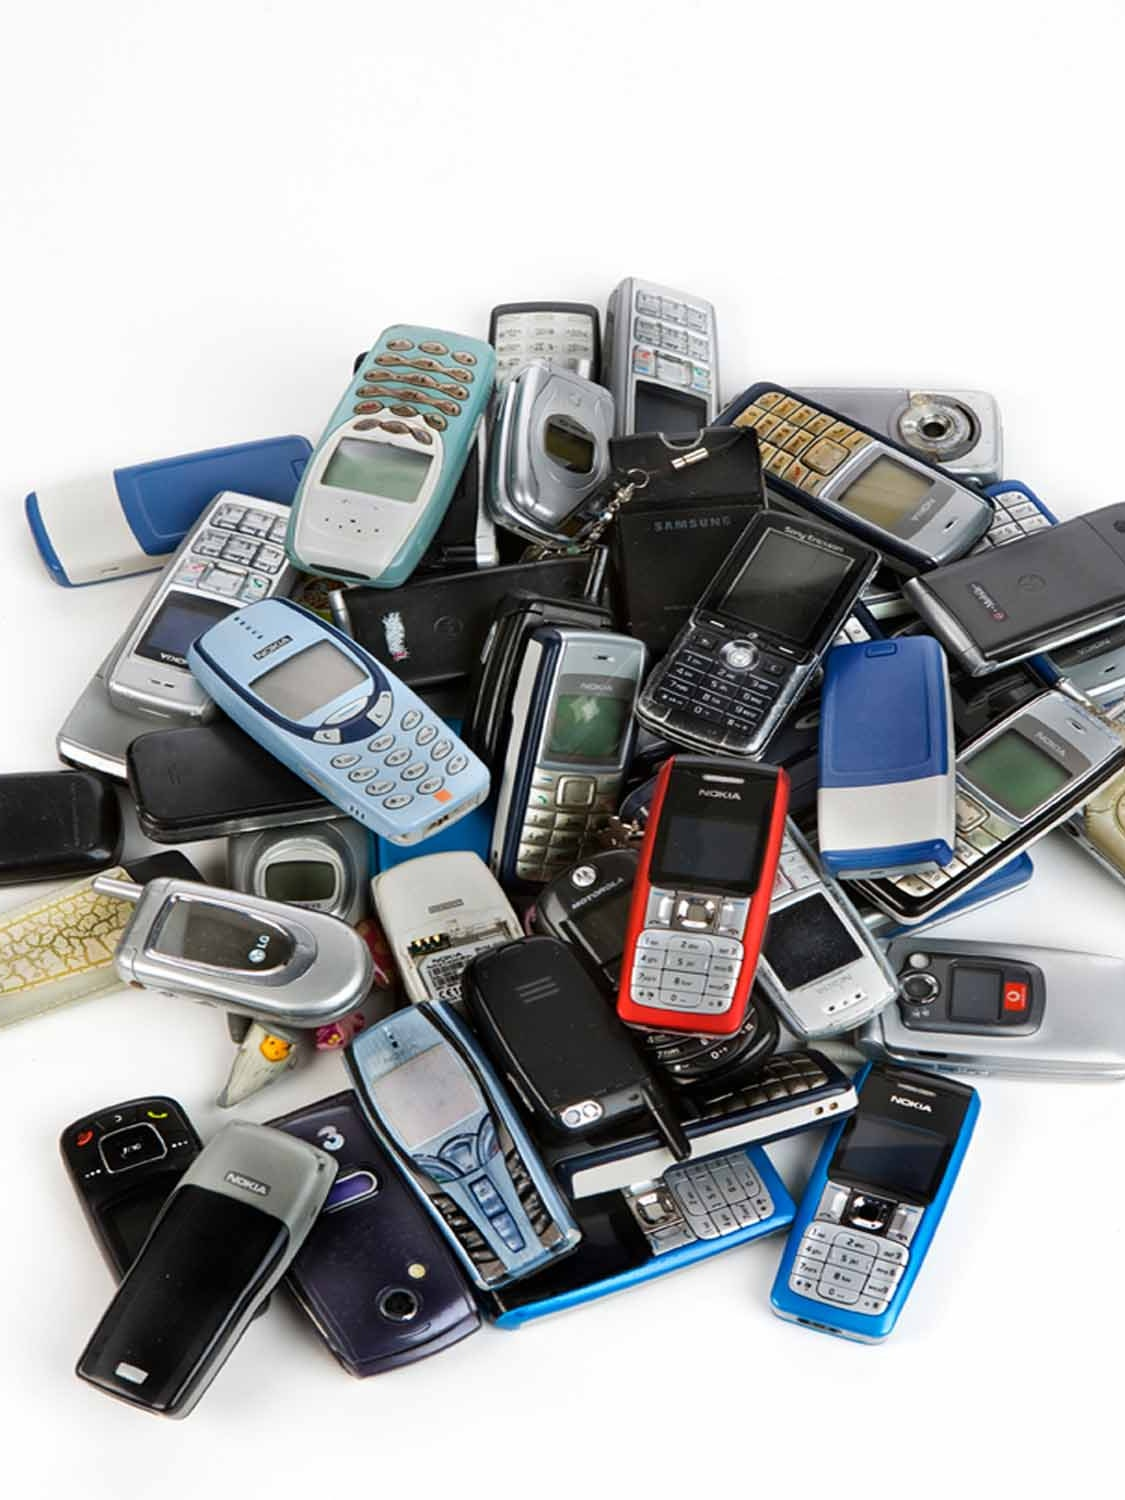phones: (173, 585, 495, 841), (781, 1041, 965, 1341), (643, 497, 845, 755), (624, 743, 774, 1030), (116, 865, 368, 1035)
